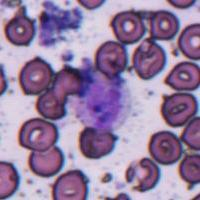N: (74, 74, 130, 131)
